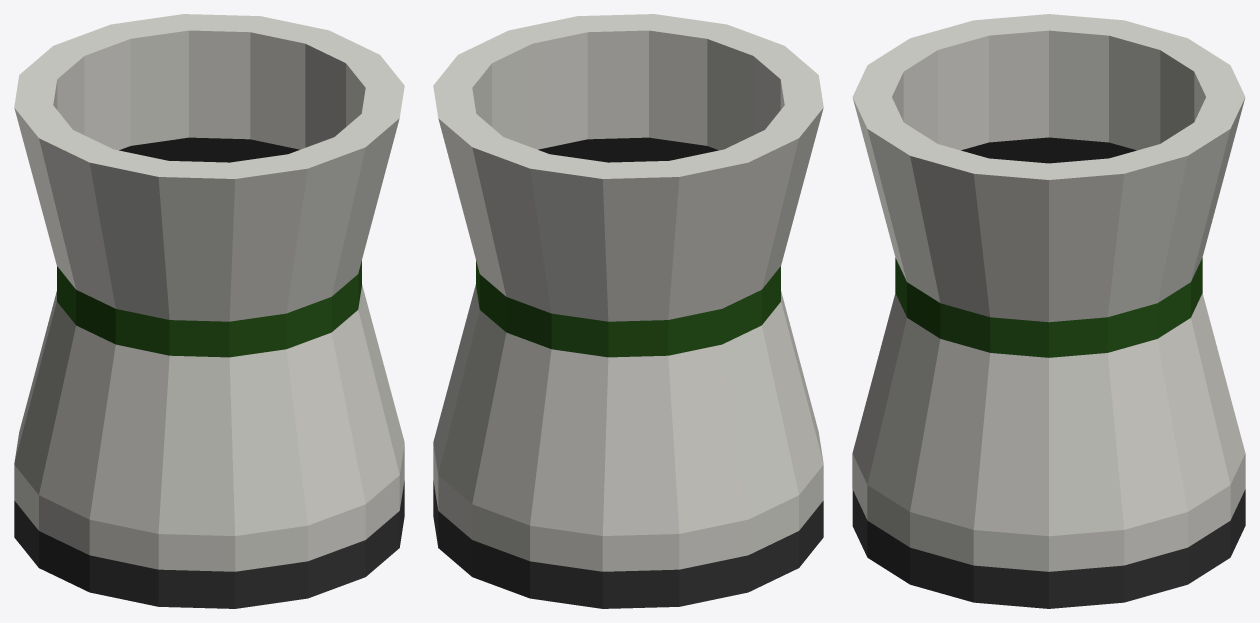
File: cooling_tower_1.CCR__voy.glb
3 views of the same model, side by side, from view 1: azimuth 30°, elevation 25°; view 2: azimuth 150°, elevation 25°; view 3: azimuth 270°, elevation 25° (orthographic).
Visible parts, largest first — view 1: base; view 2: base; view 3: base.
Boxes of the visible parts, x1,y1,x2,y2 form: base: (14,14,404,608); base: (433,14,823,608); base: (852,14,1245,608).
Size of the model in its own units: 0.96 by 1.16 by 0.96.
